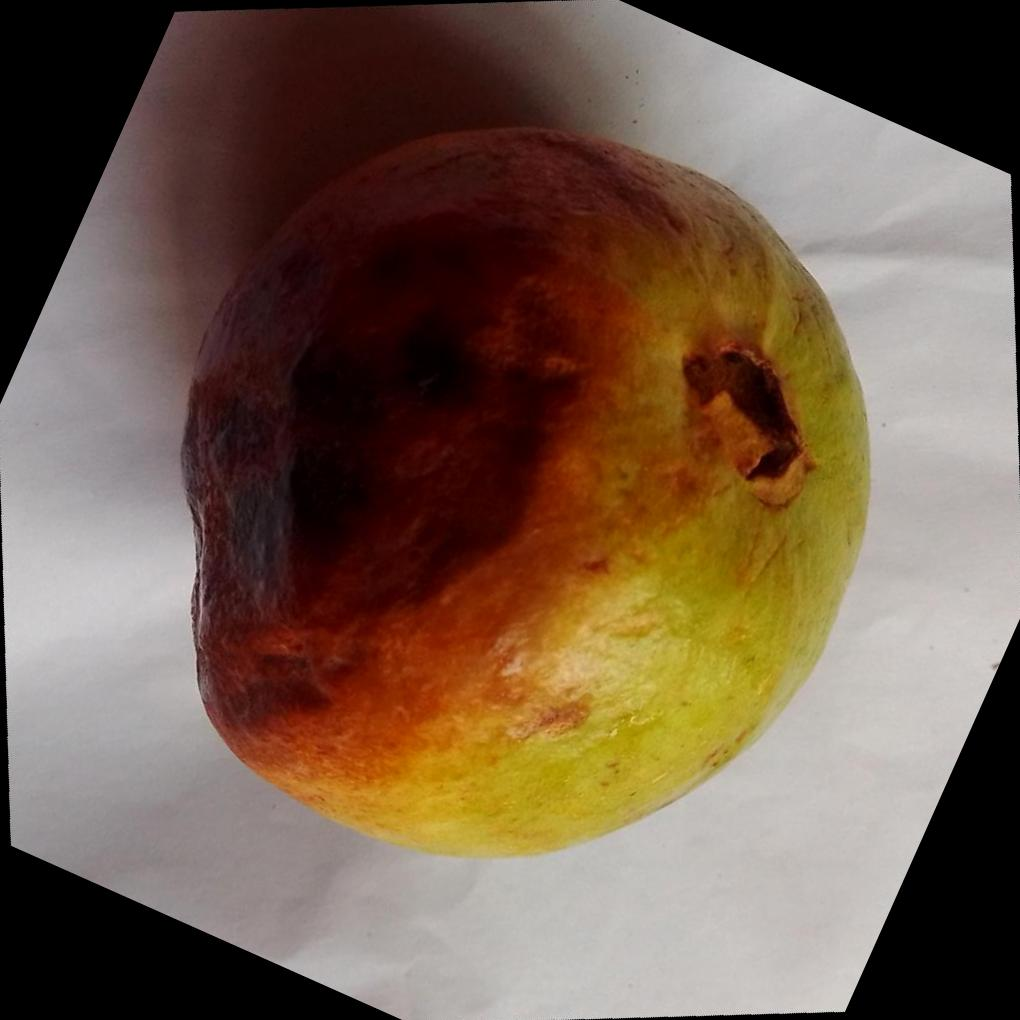FreshOrange: (176, 121, 870, 858)
